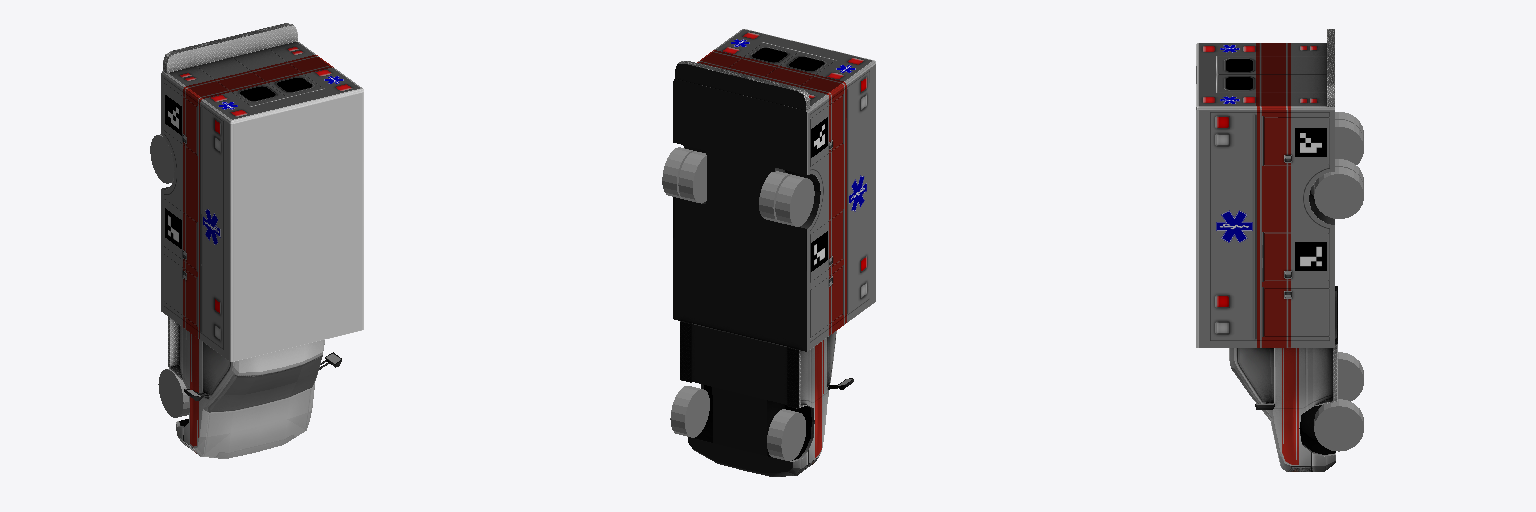
3 views of the same model, side by side, from view 1: azimuth 30°, elevation 25°; view 2: azimuth 150°, elevation 25°; view 3: azimuth 270°, elevation 25° (orthographic).
Visible parts, largest first — view 1: Ambulance, Wheel_Front_Right, Wheels_Rear; view 2: Ambulance, Wheels_Rear, Wheel_Front_Left, Wheel_Front_Right; view 3: Ambulance, Wheels_Rear, Wheel_Front_Left, Wheel_Front_Right.
Part boxes in pixels (x1,y1,x2,y2): Ambulance: (161,23,363,458); Wheel_Front_Right: (158,368,189,417); Wheels_Rear: (150,134,174,183); Ambulance: (673,29,875,476); Wheels_Rear: (662,147,814,226); Wheel_Front_Left: (670,386,709,437); Wheel_Front_Right: (767,409,805,460); Ambulance: (1196,29,1337,471); Wheels_Rear: (1314,112,1363,218); Wheel_Front_Left: (1314,399,1363,451); Wheel_Front_Right: (1338,352,1363,401).
Size of the model in its own units: 117 by 297 by 114.
2 materials, 1 textured.